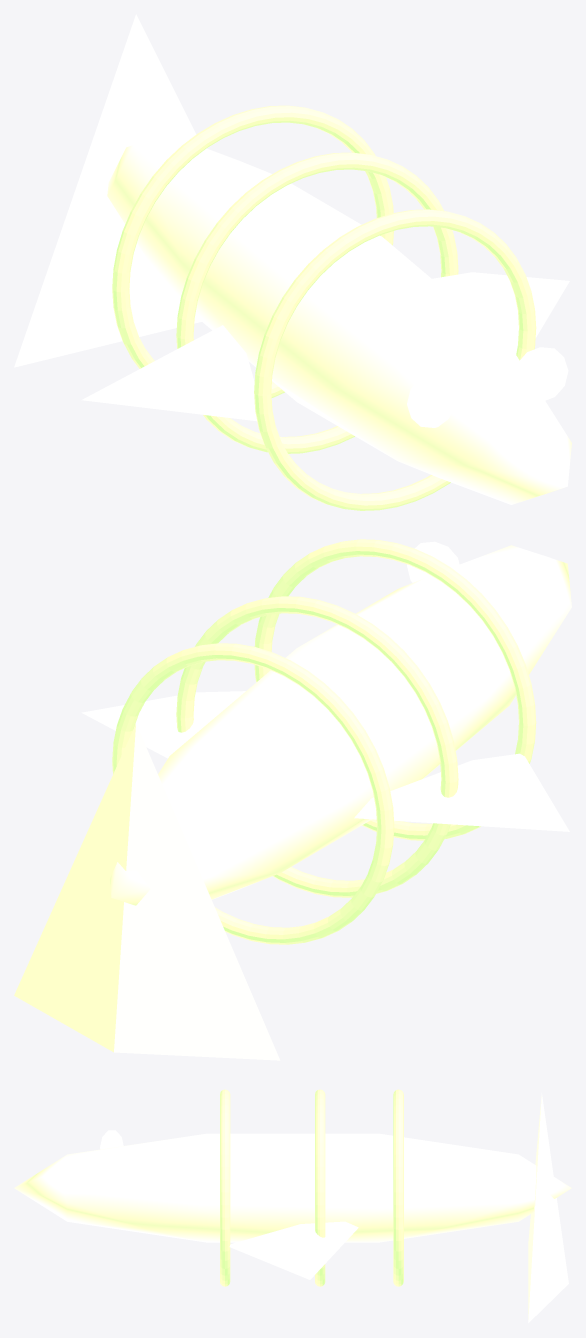
The model's file is needle-dart.glb.
3 renders of one model, top to bottom at view 1: azimuth 30°, elevation 25°; view 2: azimuth 150°, elevation 25°; view 3: azimuth 270°, elevation 25°, orthographic. The views are drawn at different scales.
Visible parts, largest first — view 1: body, swim-tail, biolight-ring, biolight-ring.001, swim-fin--1, biolight-ring.002, swim-fin-1, eye--1, eye-1; view 2: body, swim-tail, biolight-ring.002, biolight-ring.001, swim-fin--1, biolight-ring, swim-fin-1, eye--1, eye-1; view 3: body, swim-tail, swim-fin-1, biolight-ring.002, biolight-ring, biolight-ring.001, eye-1, eye--1.
Boxes of the visible parts, <box> form: body: <box>107,134,571,504</box>; swim-tail: <box>14,14,201,367</box>; biolight-ring: <box>254,209,536,510</box>; biolight-ring.001: <box>176,152,458,453</box>; swim-fin--1: <box>81,325,256,421</box>; biolight-ring.002: <box>112,105,393,397</box>; swim-fin-1: <box>432,272,569,354</box>; eye--1: <box>407,373,459,427</box>; eye-1: <box>516,347,568,400</box>; body: <box>109,545,571,905</box>; swim-tail: <box>14,723,280,1060</box>; biolight-ring.002: <box>112,643,394,944</box>; biolight-ring.001: <box>176,596,458,897</box>; swim-fin--1: <box>354,753,569,831</box>; biolight-ring: <box>254,539,536,840</box>; swim-fin-1: <box>81,691,245,758</box>; eye--1: <box>516,567,568,622</box>; eye-1: <box>407,541,459,582</box>; body: <box>14,1133,571,1242</box>; swim-tail: <box>528,1093,568,1322</box>; swim-fin-1: <box>229,1221,358,1279</box>; biolight-ring.002: <box>393,1089,403,1286</box>; biolight-ring: <box>220,1089,230,1286</box>; biolight-ring.001: <box>315,1089,325,1286</box>; eye-1: <box>100,1162,123,1196</box>; eye--1: <box>100,1130,123,1149</box>.
Size of the model in its own units: 2.29 by 1.4 by 3.7.
